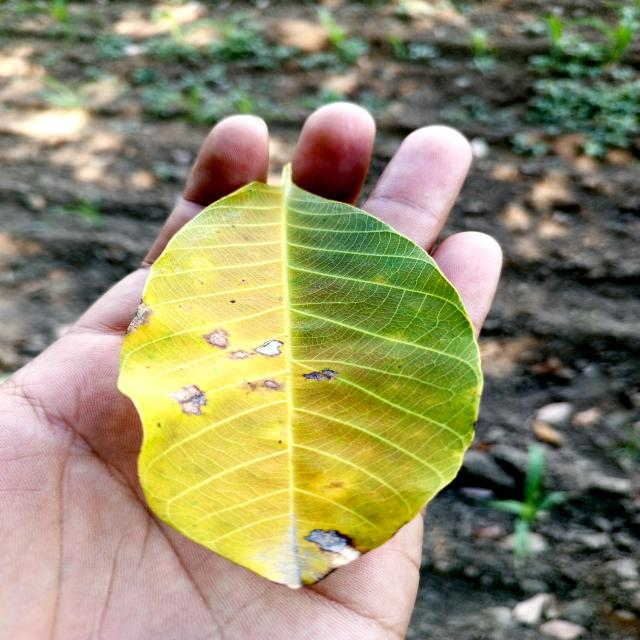Colletotrichum: (230, 300, 236, 303)
Leaf-Blight: (255, 339, 283, 356)
